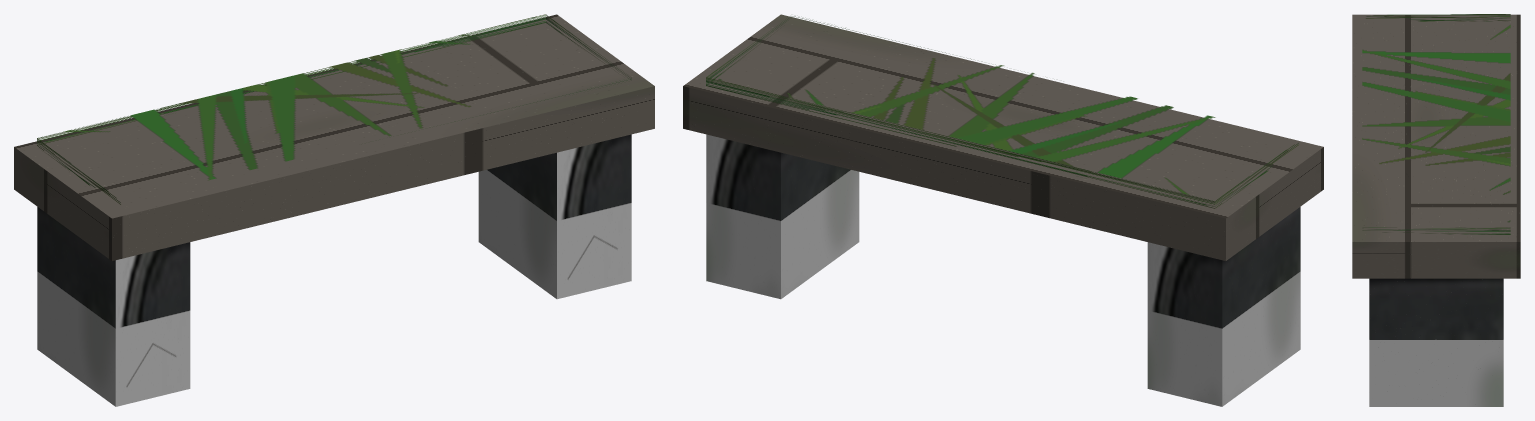
File: san-dinh-ghe-da.glb
The picture shows the model from 3 angles, left to right: view 1: azimuth 30°, elevation 25°; view 2: azimuth 150°, elevation 25°; view 3: azimuth 270°, elevation 25°; orthographic projection. The views are drawn at different scales.
Parts seen in each view (by area): view 1: san-dinh-ghe-da; view 2: san-dinh-ghe-da; view 3: san-dinh-ghe-da.
Part boxes in pixels (x1,y1,x2,y2): san-dinh-ghe-da: (14,14,654,406); san-dinh-ghe-da: (683,14,1323,406); san-dinh-ghe-da: (1352,14,1520,406).
Size of the model in its own units: 1.6 by 0.585 by 0.5.
3 materials, 3 textured.
